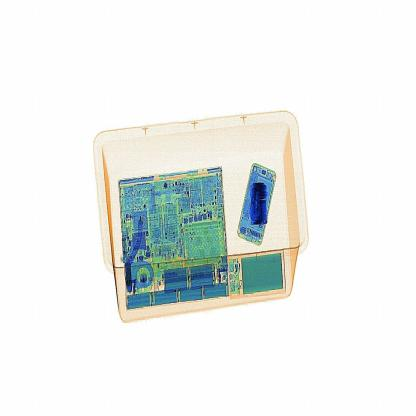scissors: (246, 176, 278, 233)
